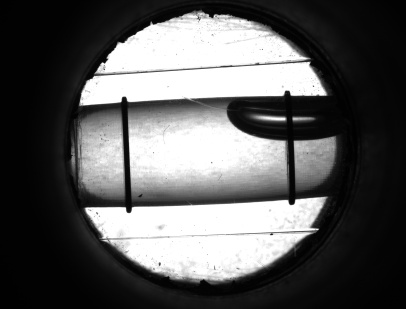line: (116, 118, 136, 189), (279, 145, 302, 187)
